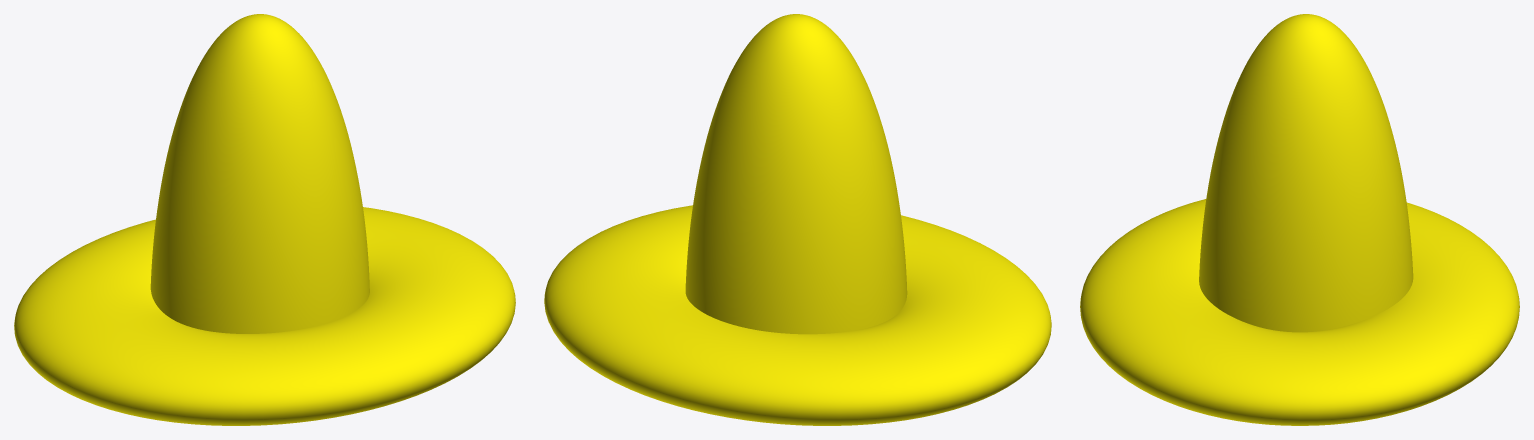
Rendered from hat.fbx.
3 renders of one model, left to right at view 1: azimuth 30°, elevation 25°; view 2: azimuth 150°, elevation 25°; view 3: azimuth 270°, elevation 25°, orthographic. The views are drawn at different scales.
Parts seen in each view (by area): view 1: root (×2); view 2: root (×2); view 3: root (×2).
Part boxes in pixels (x1,y1,x2,y2): root (×2): (14, 14, 515, 425); root (×2): (544, 14, 1051, 425); root (×2): (1080, 14, 1519, 425).
Size of the model in its own units: 0.2515 by 0.1749 by 0.2182.
